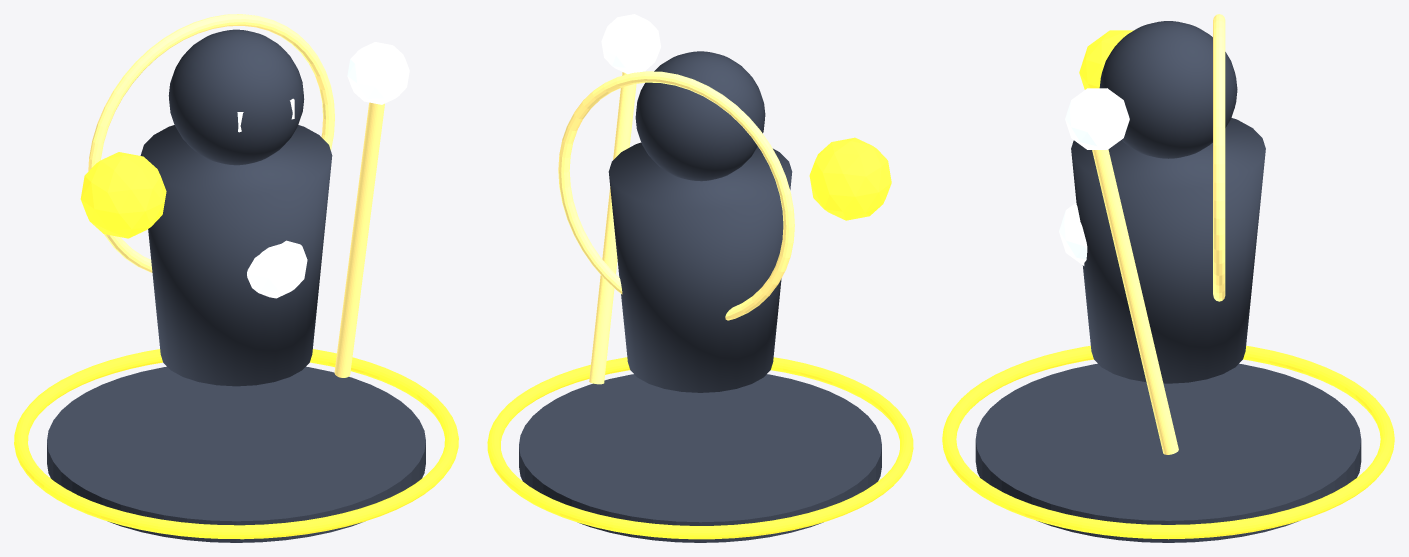
The model's file is aether.glb.
3 renders of one model, left to right at view 1: azimuth 30°, elevation 25°; view 2: azimuth 150°, elevation 25°; view 3: azimuth 270°, elevation 25°, orthographic. The views are drawn at different scales.
Visible parts, largest first — view 1: AbilityPedestal, AgentTorso, AgentHead, AbilityAuraRing, Pet_AETHER, SovereignHalo, SignatureWeapon, WeaponApex, AgentCore; view 2: AbilityPedestal, AgentTorso, AgentHead, AbilityAuraRing, SovereignHalo, Pet_AETHER, SignatureWeapon, WeaponApex; view 3: AbilityPedestal, AgentTorso, AgentHead, AbilityAuraRing, SignatureWeapon, SovereignHalo, WeaponApex, Pet_AETHER, AgentCore.
Part boxes in pixels (bbox=[...]): AbilityPedestal: bbox=[47, 366, 425, 542]; AgentTorso: bbox=[140, 125, 332, 386]; AgentHead: bbox=[168, 29, 304, 165]; AbilityAuraRing: bbox=[14, 349, 458, 539]; Pet_AETHER: bbox=[80, 152, 166, 238]; SovereignHalo: bbox=[88, 14, 334, 272]; SignatureWeapon: bbox=[334, 102, 384, 377]; WeaponApex: bbox=[347, 42, 409, 104]; AgentCore: bbox=[247, 240, 307, 298]; AbilityPedestal: bbox=[519, 374, 881, 542]; AgentTorso: bbox=[608, 142, 792, 392]; AgentHead: bbox=[635, 51, 765, 181]; AbilityAuraRing: bbox=[487, 357, 913, 539]; SovereignHalo: bbox=[558, 71, 794, 320]; Pet_AETHER: bbox=[809, 137, 891, 220]; SignatureWeapon: bbox=[589, 72, 636, 384]; WeaponApex: bbox=[601, 14, 660, 74]; AbilityPedestal: bbox=[975, 363, 1361, 542]; AgentTorso: bbox=[1071, 118, 1265, 383]; AgentHead: bbox=[1099, 21, 1237, 158]; AbilityAuraRing: bbox=[942, 345, 1394, 539]; SignatureWeapon: bbox=[1092, 149, 1178, 454]; SovereignHalo: bbox=[1213, 14, 1225, 301]; WeaponApex: bbox=[1065, 88, 1129, 149]; Pet_AETHER: bbox=[1079, 30, 1133, 89]; AgentCore: bbox=[1059, 203, 1087, 265].
Size of the model in its own units: 2.23 by 2.36 by 2.23.
